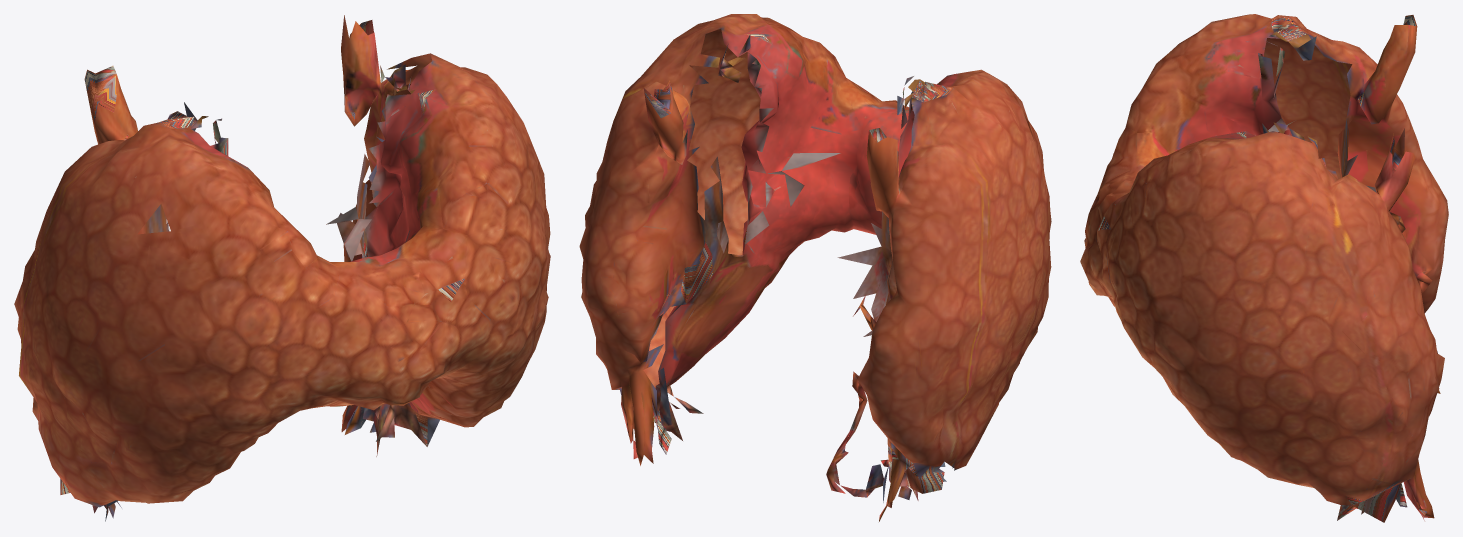
Rendered from thyroid.glb.
The picture shows the model from 3 angles, left to right: view 1: azimuth 30°, elevation 25°; view 2: azimuth 150°, elevation 25°; view 3: azimuth 270°, elevation 25°; orthographic projection. The views are drawn at different scales.
Parts seen in each view (by area): view 1: thyroid; view 2: thyroid; view 3: thyroid.
Boxes of the visible parts, <box> form: thyroid: <box>14,15,550,521</box>; thyroid: <box>579,14,1051,521</box>; thyroid: <box>1080,14,1448,522</box>.
Bounding box in the file's own units: 0.0315 × 0.0277 × 0.0239.
Materials: 1 (1 with a texture image).
